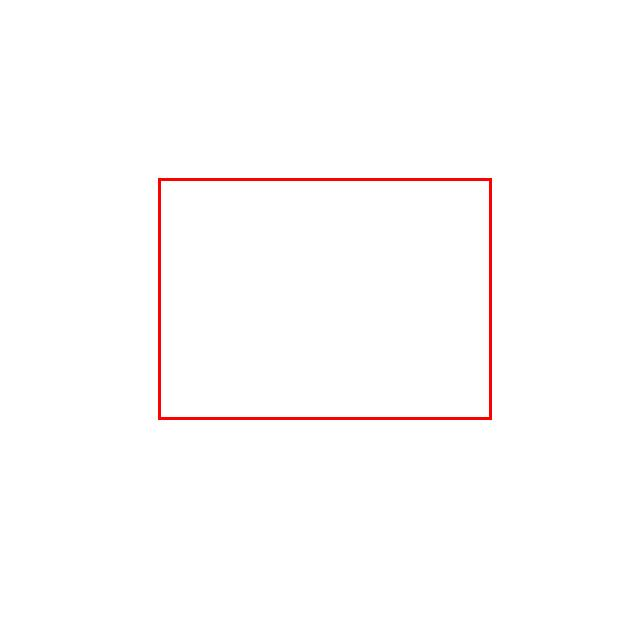Water: (158, 178, 491, 419)
